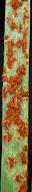Wheat: (6, 1, 29, 192)
